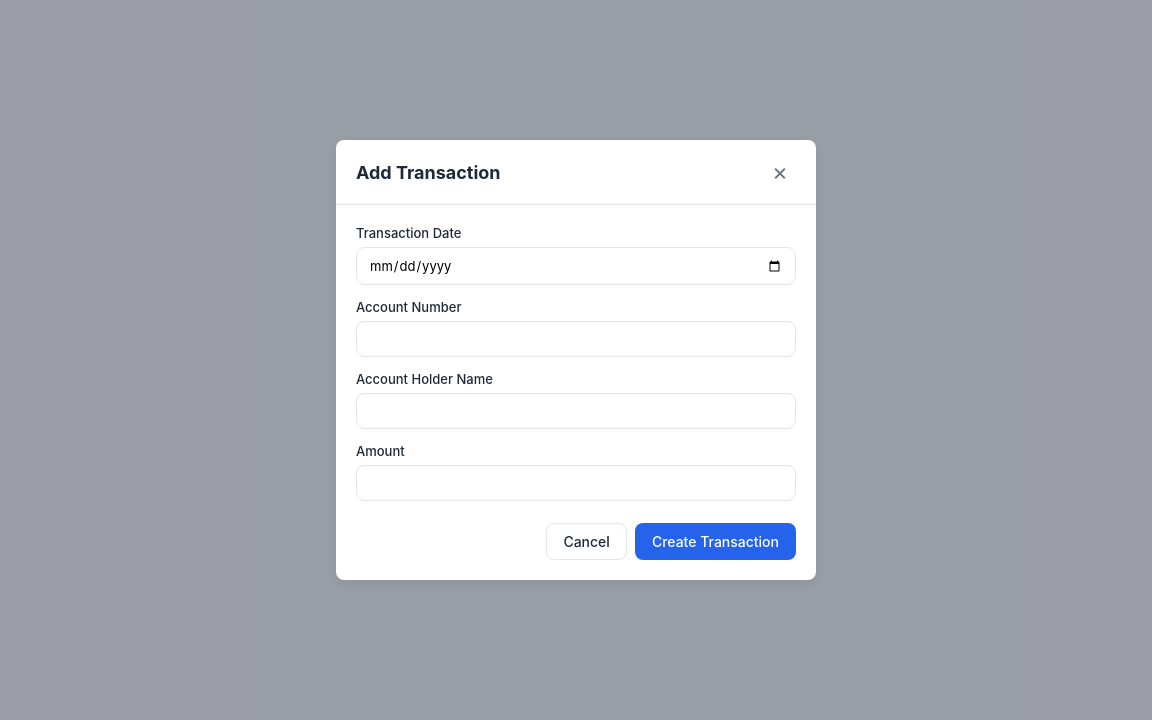
Scenario: AddTransactionModal › shows backend field errors when submit fails with validation details
Type "2025-05-12" into the date field labelled "Transaction Date". click: coordinates (576, 266)
box: top-left (356, 247), bottom-right (796, 285)
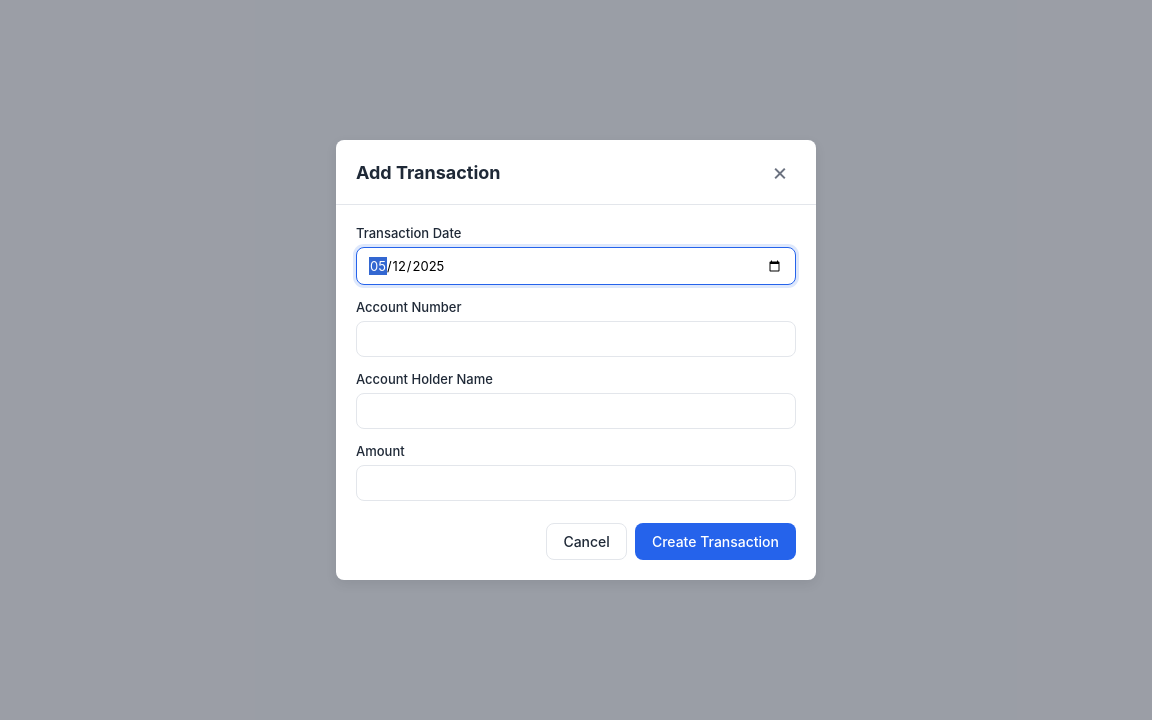
Type "1234-5678-9012" into the field labelled "Account Number". click: coordinates (576, 339)
box: top-left (356, 321), bottom-right (796, 357)
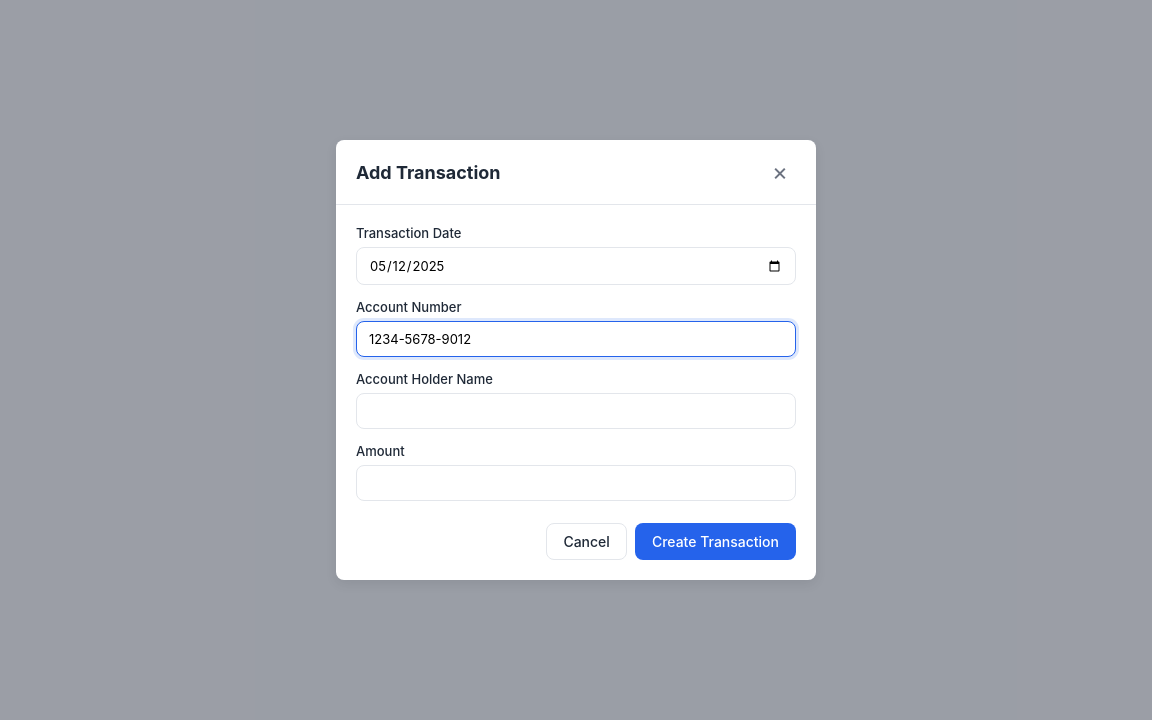
Type "Jane Doe" into the field labelled "Account Holder Name". click: coordinates (576, 411)
box: top-left (356, 393), bottom-right (796, 429)
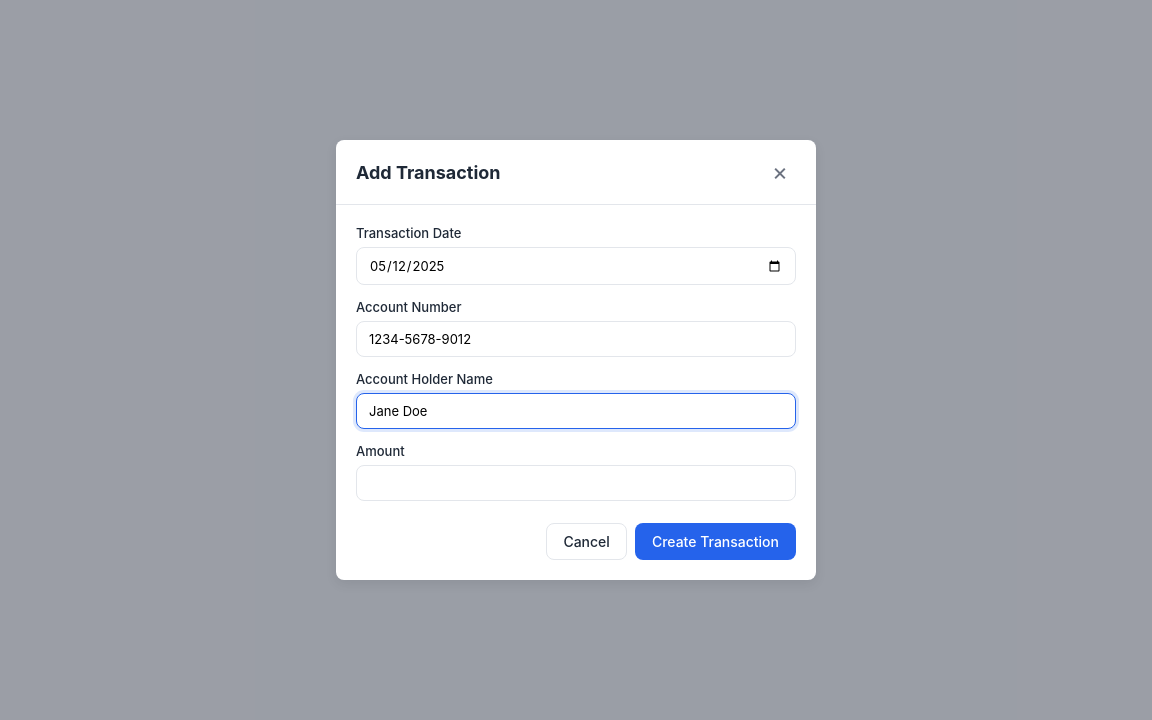
Type "100" into the number field labelled "Amount". click: coordinates (576, 483)
box: top-left (356, 465), bottom-right (796, 501)
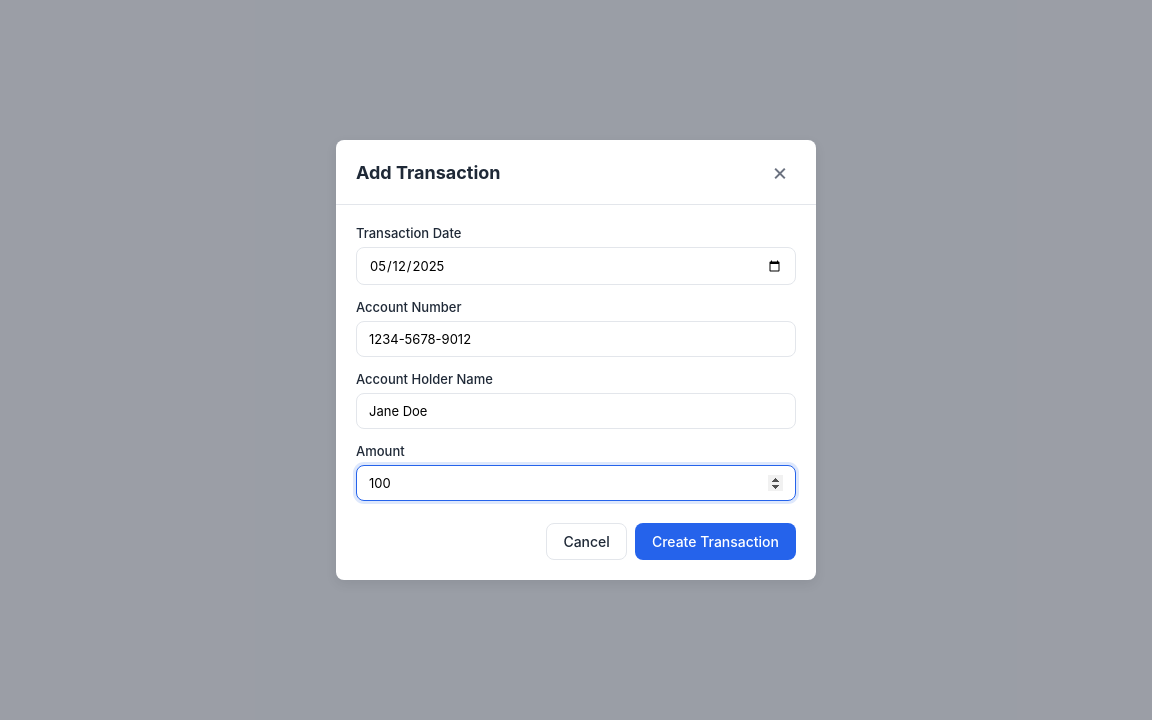
Click the button "Create Transaction". click: coordinates (715, 542)
box: top-left (635, 523), bottom-right (796, 560)
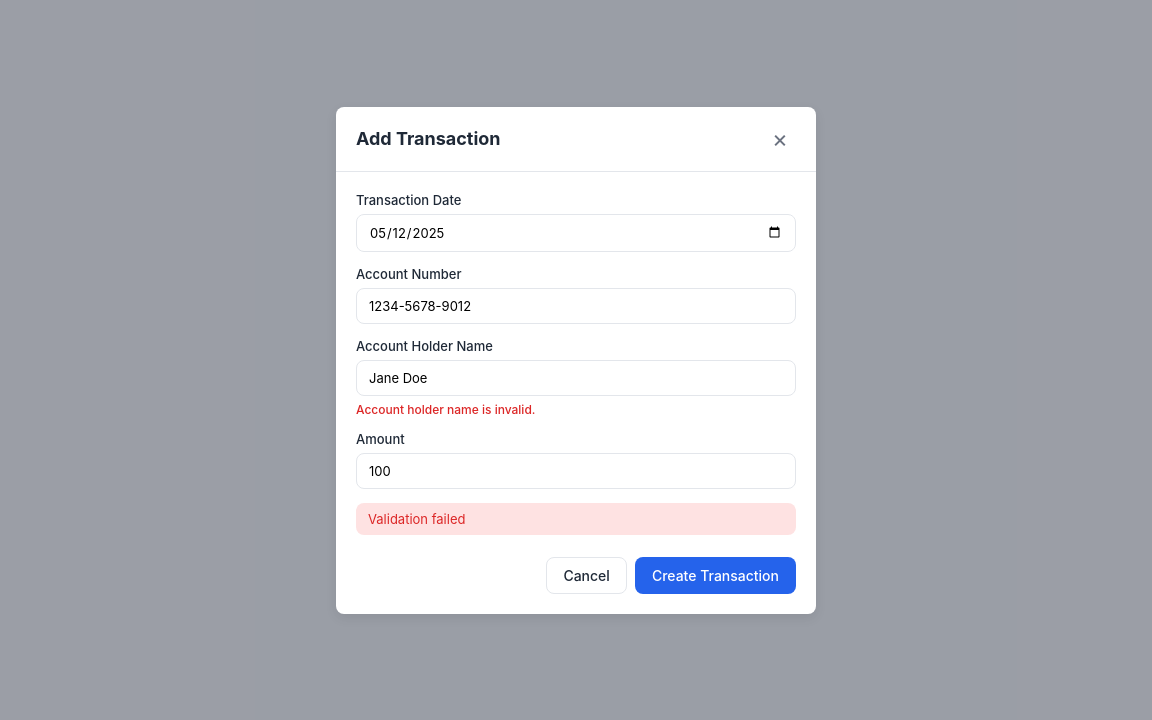
Check: the text "Validation failed" is shown, box top-left (356, 502), bottom-right (796, 534)
Check: the text "Account holder name is invalid." is shown, box top-left (356, 402), bottom-right (536, 416)
